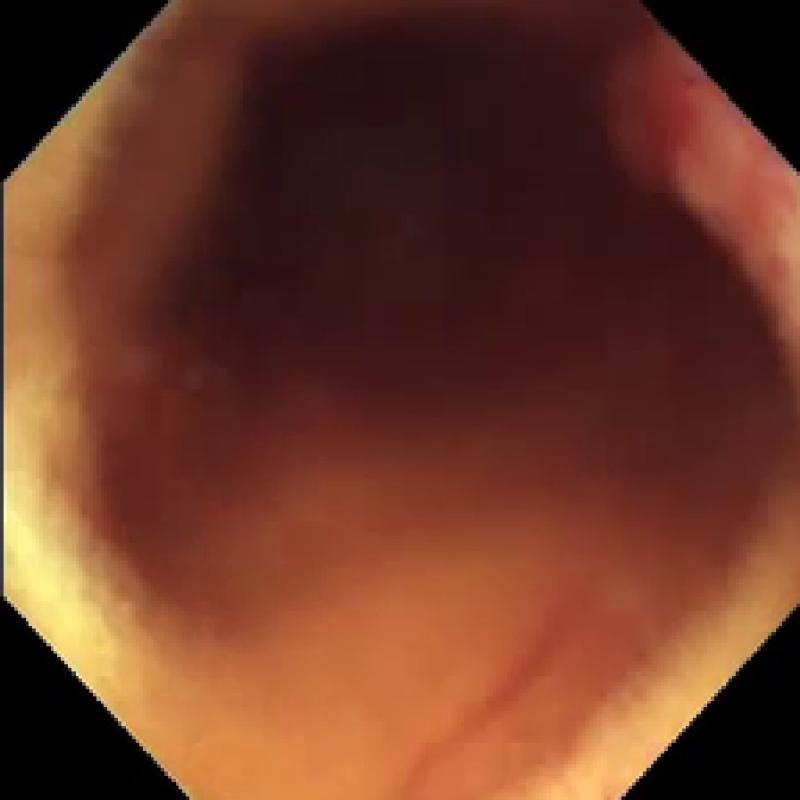bleeding: (182, 14, 800, 504)
